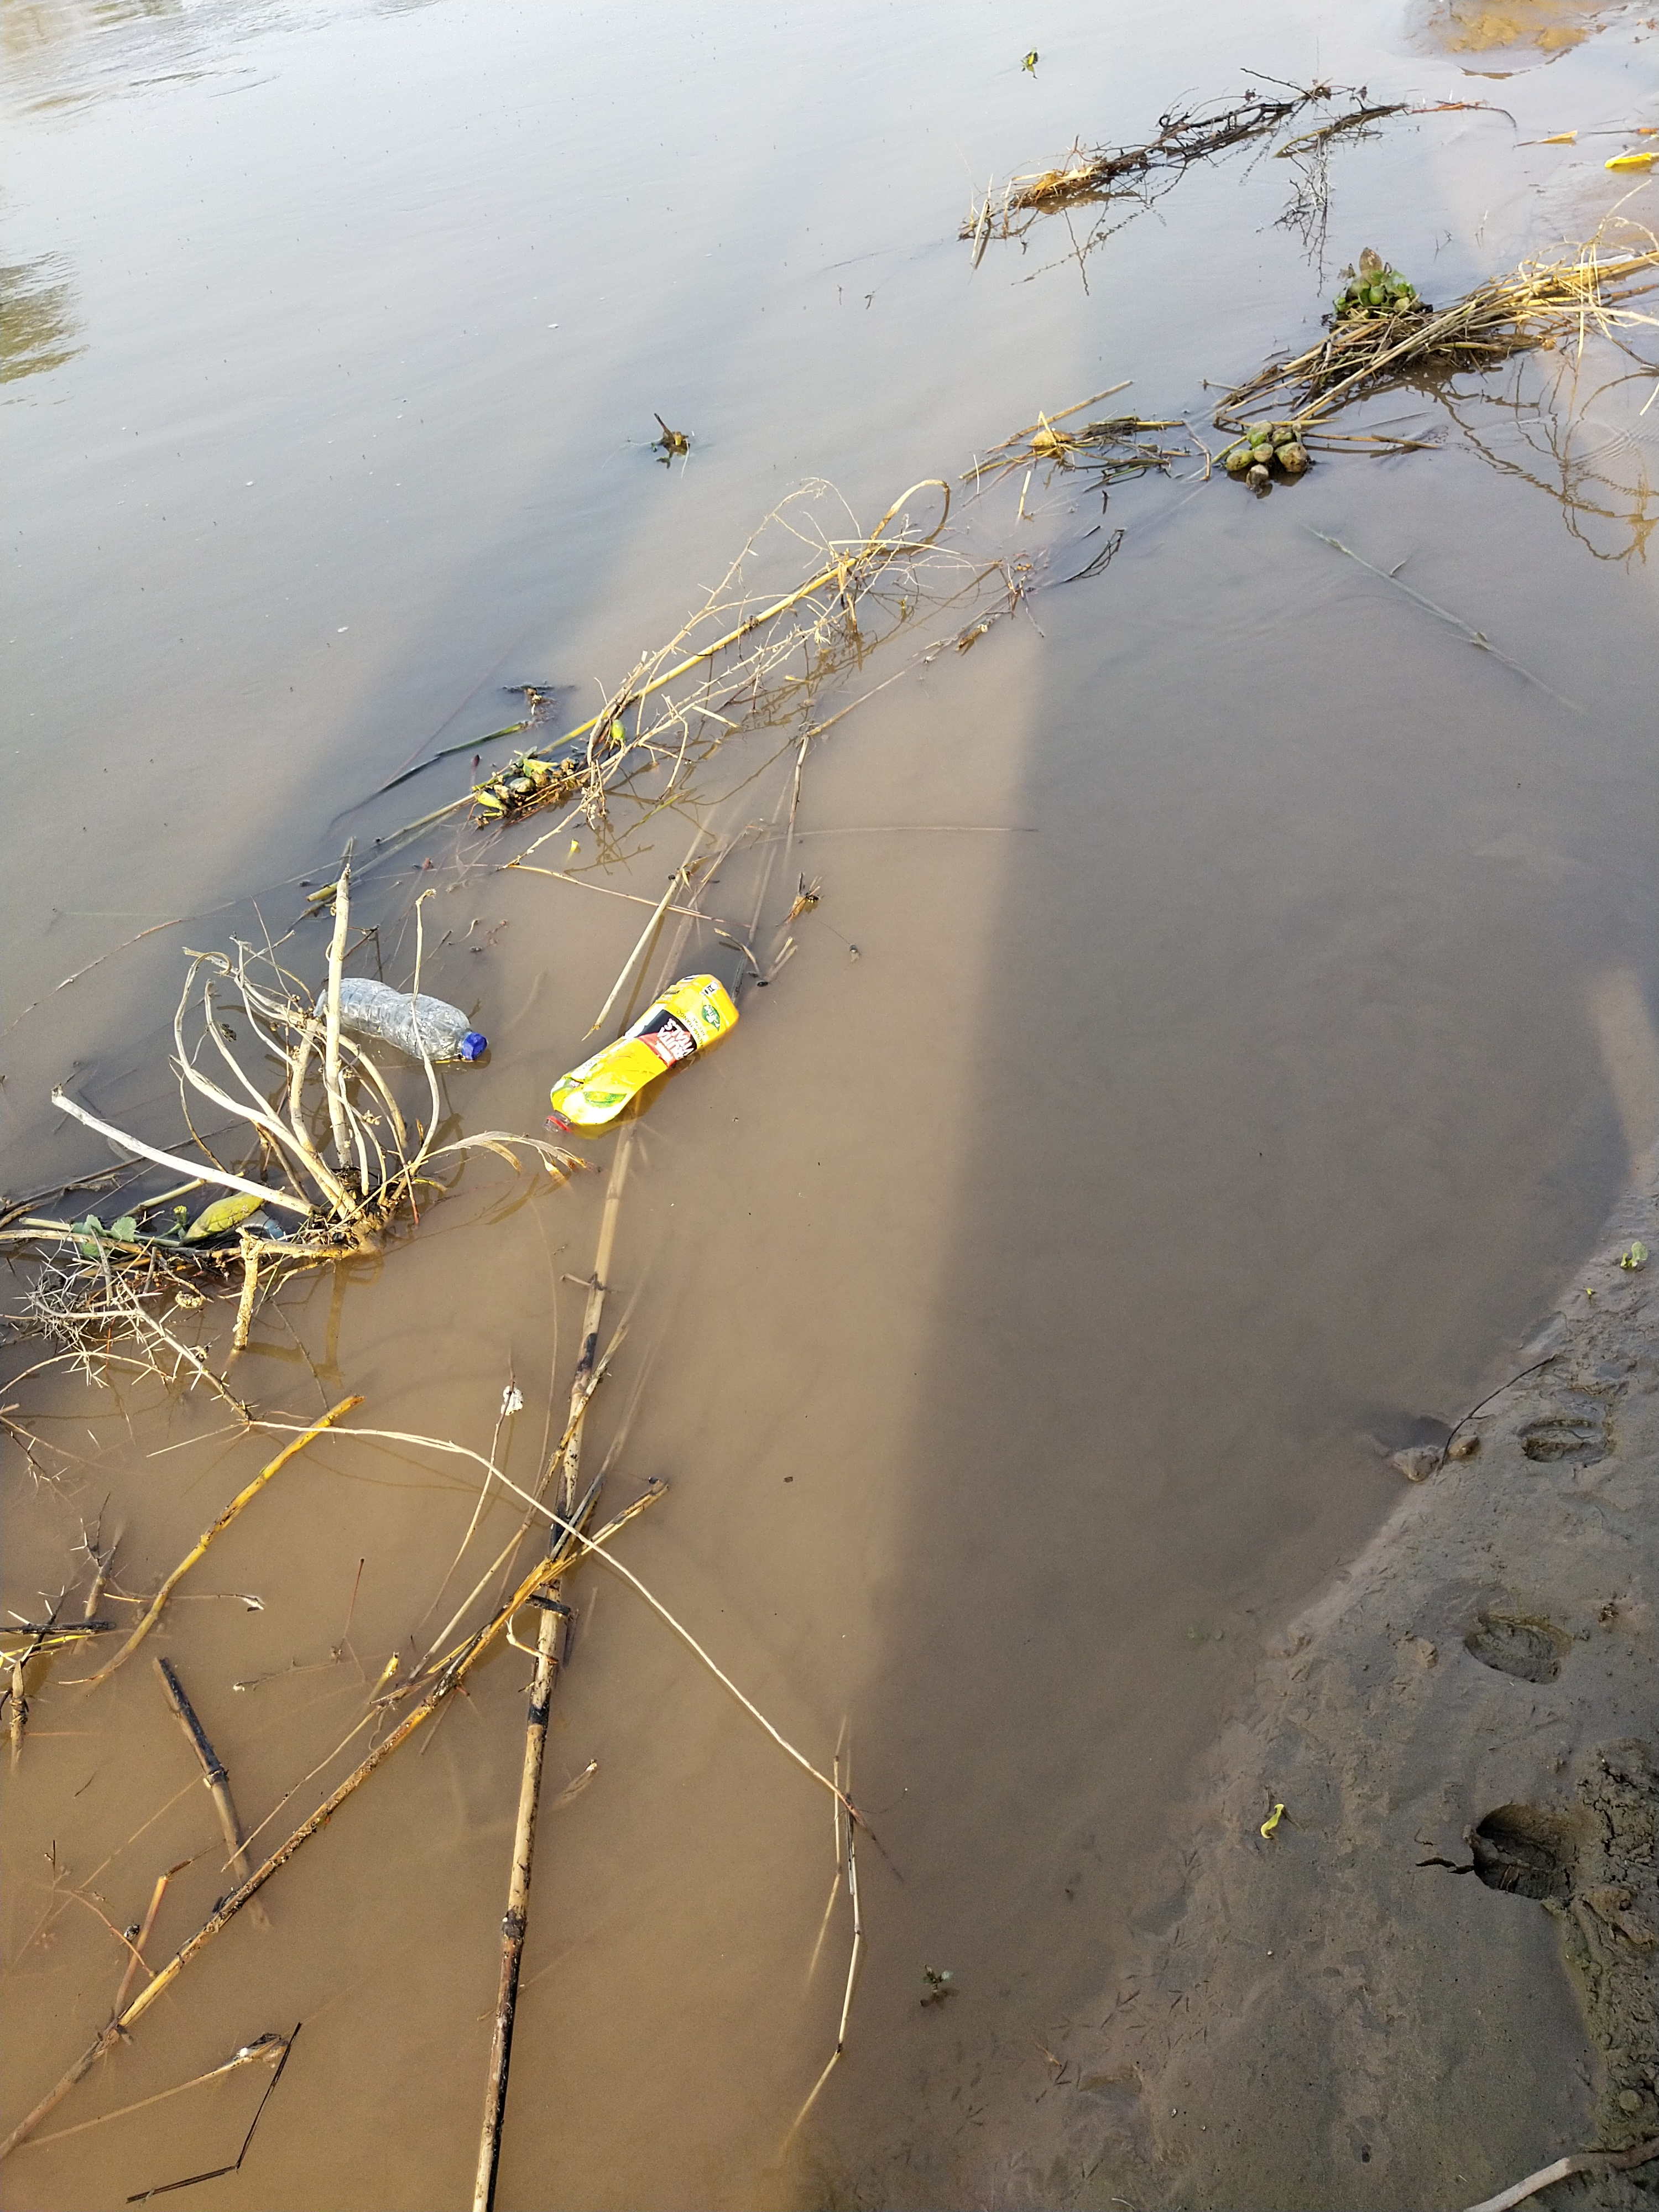Plastic Bottle: (544, 974, 739, 1134), (340, 977, 486, 1062)
